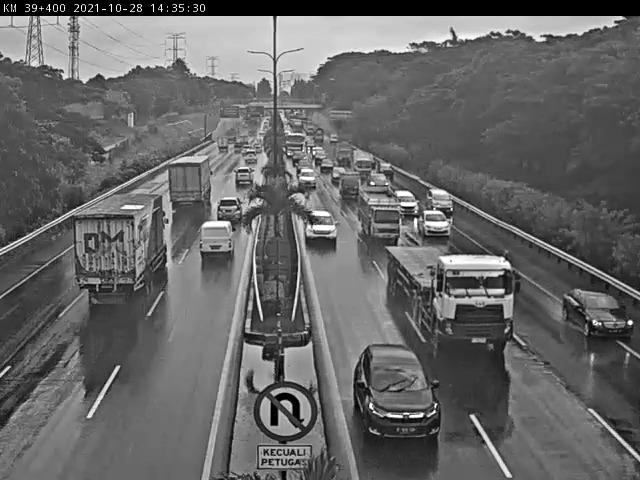big truck: (386, 246, 519, 344), (71, 191, 168, 298), (167, 156, 212, 204), (288, 131, 305, 154)
car: (356, 344, 443, 438), (563, 288, 633, 344), (199, 221, 233, 256), (304, 210, 335, 241), (420, 211, 449, 239), (427, 187, 453, 214), (338, 173, 362, 197), (215, 199, 241, 219), (399, 191, 419, 216), (234, 168, 253, 186), (299, 166, 316, 185), (380, 162, 393, 177), (370, 173, 384, 186), (291, 151, 306, 163), (245, 150, 257, 163), (319, 158, 331, 170), (334, 164, 345, 177), (314, 148, 326, 159)
small truck: (357, 187, 400, 242), (352, 151, 373, 175), (336, 139, 351, 163), (218, 137, 227, 151)
